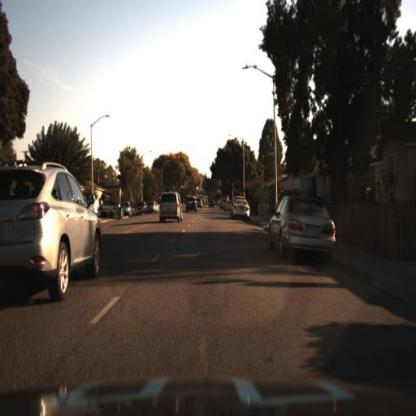car: (1, 159, 108, 302), (266, 193, 336, 263), (159, 191, 186, 224), (232, 195, 253, 219), (97, 200, 120, 217), (185, 196, 200, 215), (119, 201, 133, 219), (147, 200, 160, 218), (135, 199, 149, 215), (122, 203, 135, 219), (208, 201, 217, 210)
